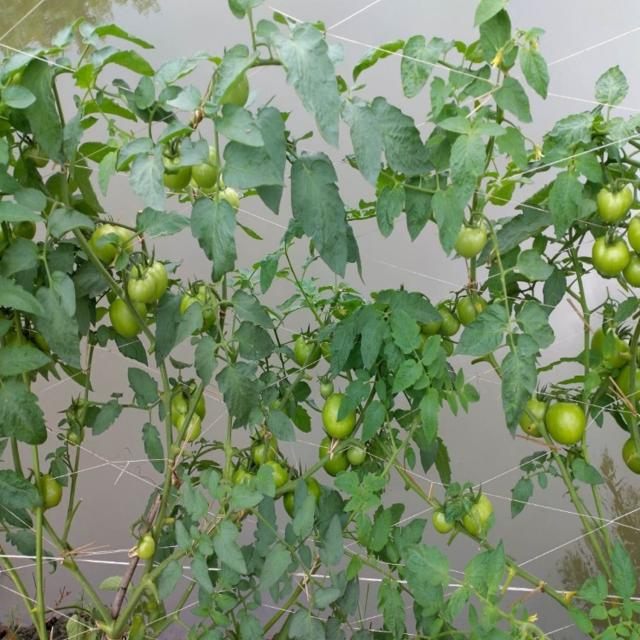tomato: (547, 394, 591, 459), (163, 380, 215, 426), (596, 315, 640, 367), (596, 172, 632, 227), (284, 471, 318, 523), (112, 296, 148, 341), (607, 367, 640, 415), (160, 145, 191, 196), (196, 148, 231, 193), (320, 397, 358, 438), (597, 235, 628, 285), (89, 225, 128, 264), (517, 387, 543, 445), (138, 255, 173, 298), (223, 65, 256, 107), (465, 487, 493, 534), (349, 440, 382, 479), (38, 468, 69, 504), (294, 334, 327, 367), (458, 222, 488, 258), (321, 438, 344, 484), (258, 455, 291, 487), (125, 529, 157, 562), (182, 280, 212, 315), (174, 413, 207, 444), (460, 293, 492, 324), (432, 498, 455, 540), (252, 431, 285, 459), (441, 308, 466, 343), (128, 270, 155, 301), (62, 426, 88, 456), (24, 134, 49, 165), (621, 253, 640, 293), (625, 424, 640, 470), (226, 464, 245, 495), (627, 215, 640, 253), (320, 380, 334, 400)
